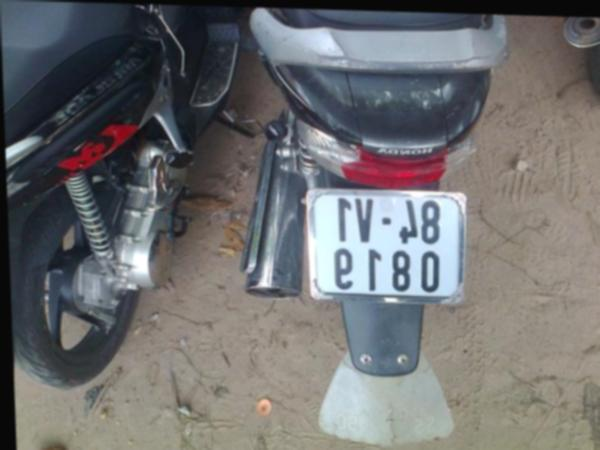License_Plate: (313, 189, 464, 303)
